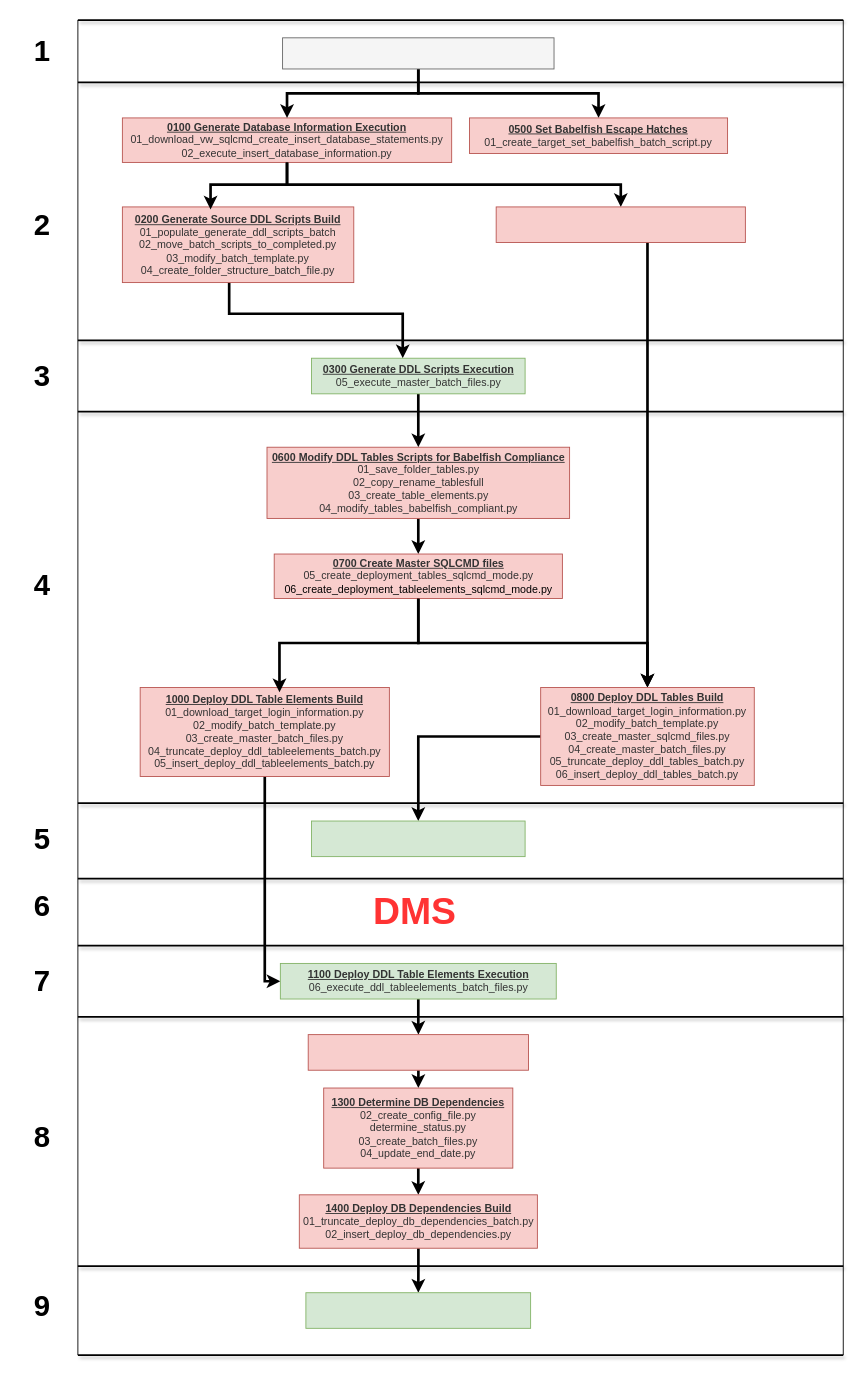
Image size: 865x1378. Some labels were removed from this diagram. The shapes that lost their labels are listed below. From the top down, each one's centre as x and y in pixels, then its label:
pixel 418 53: Input Data Into Information Database
pixel 620 224: 0400 Create Databases on Target 01_create_target_databases_batch_script.py
pixel 418 838: 0900 Deploy DDL Tables Execution 07_execute_ddl_tables_batch_files.py
pixel 417 1052: 1200 Generate DB Dependencies Build 01_insert_dd_dependencies_batch.py
pixel 418 1310: 1500 Deploy DB Dependencies Execution 03_execute_db_dependencies.py
